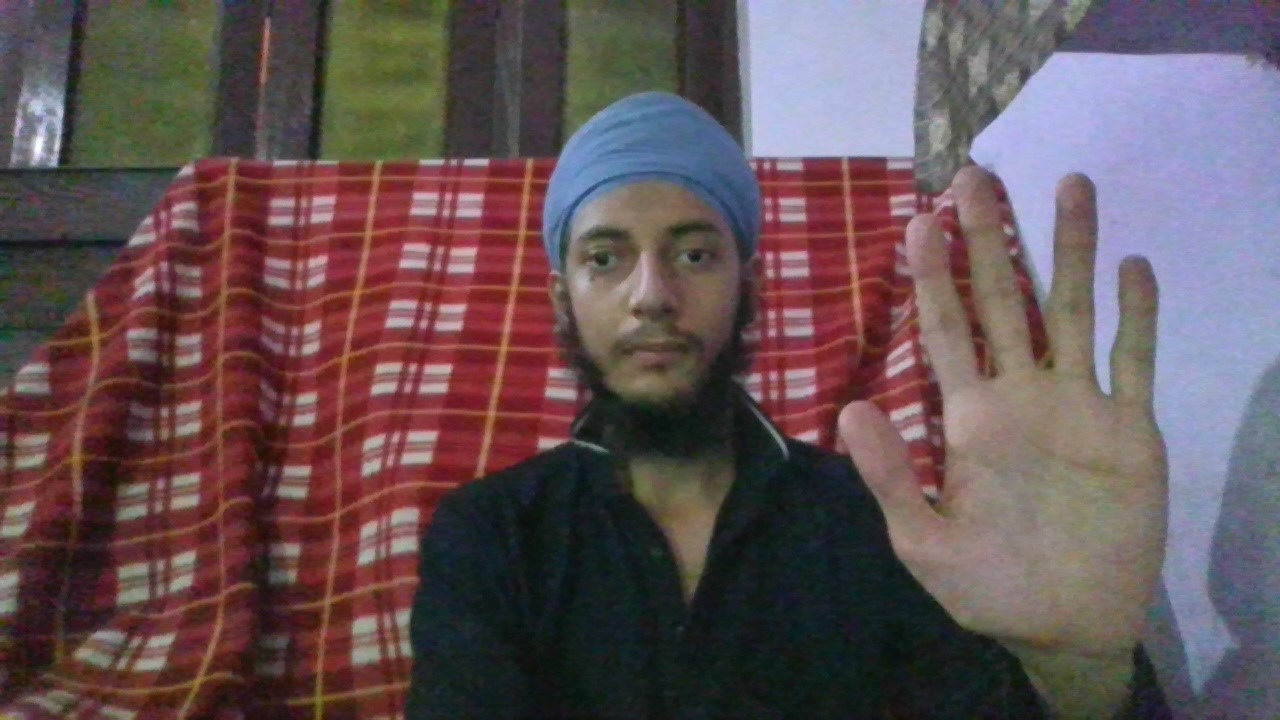Hello: (834, 161, 1173, 655)
